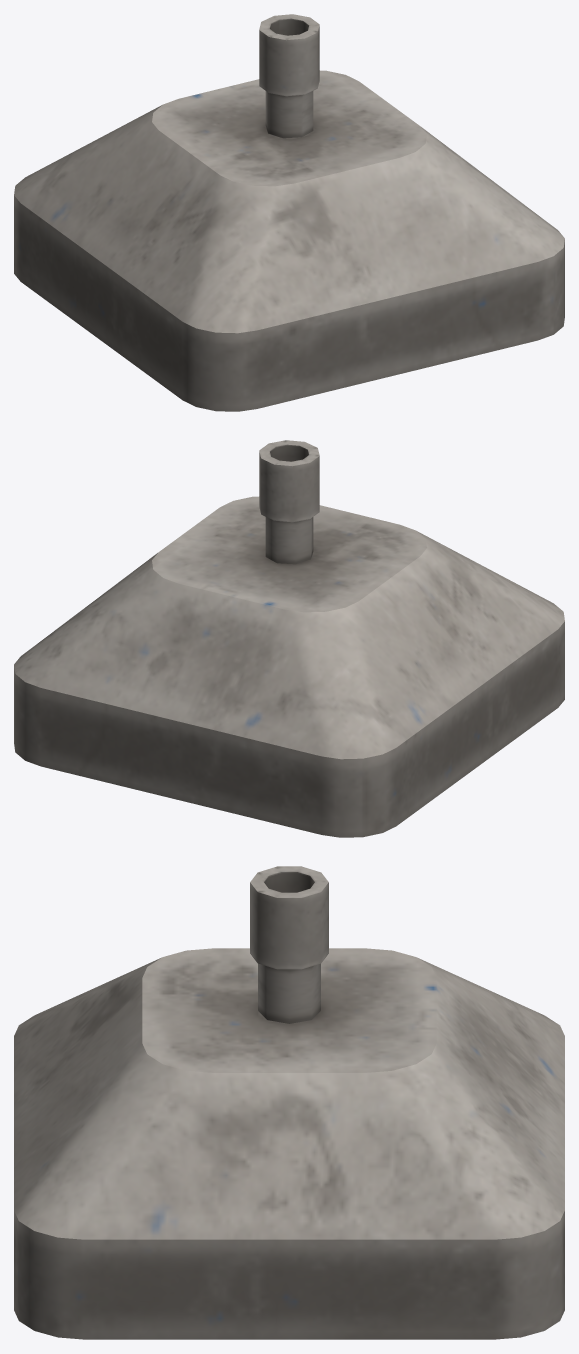
The model's file is bannerflagbaseB.fbx.
3 views of the same model, one above another, from view 1: azimuth 30°, elevation 25°; view 2: azimuth 150°, elevation 25°; view 3: azimuth 270°, elevation 25° (orthographic). The views are drawn at different scales.
Parts seen in each view (by area): view 1: bannerflagbaseB; view 2: bannerflagbaseB; view 3: bannerflagbaseB.
Part boxes in pixels (x1,y1,x2,y2): bannerflagbaseB: (14,14,564,411); bannerflagbaseB: (14,440,564,837); bannerflagbaseB: (14,866,564,1339).
Bounding box in the file's own units: 35 × 23.89 × 35.
Materials: 1 (1 with a texture image).
